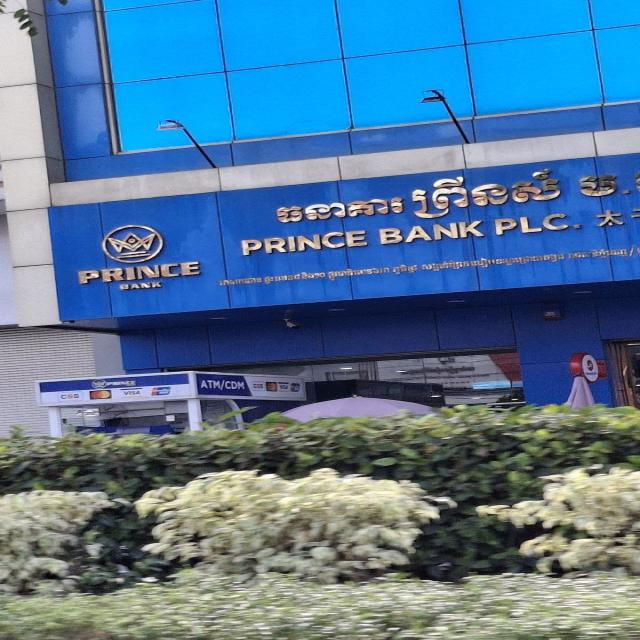1: (404, 144, 631, 223)
Yolov11_80vkh: (262, 185, 407, 231)
